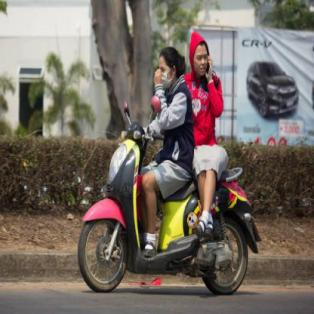Motocicleta: (76, 102, 257, 296)
